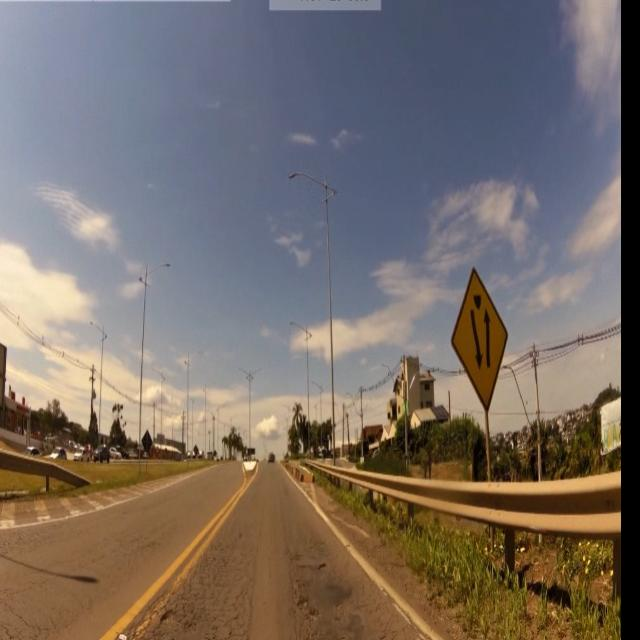A-42a: (449, 267, 509, 409)
